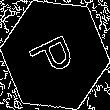P_NE: (27, 28, 83, 82)
